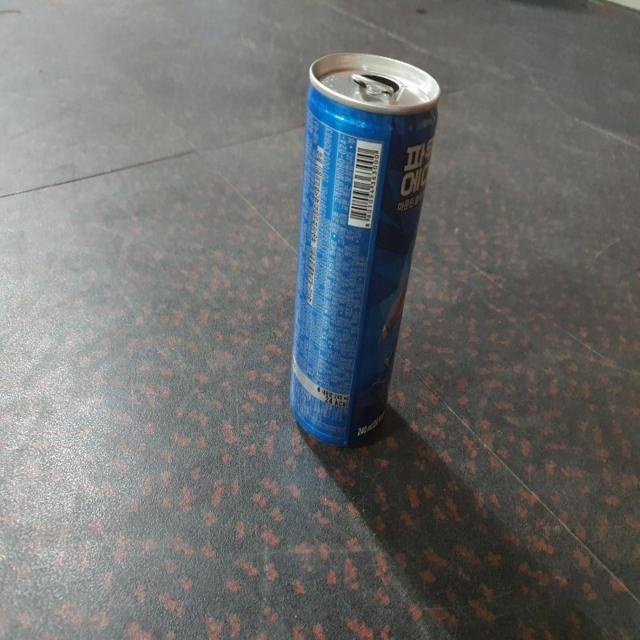can: (290, 52, 441, 446)
